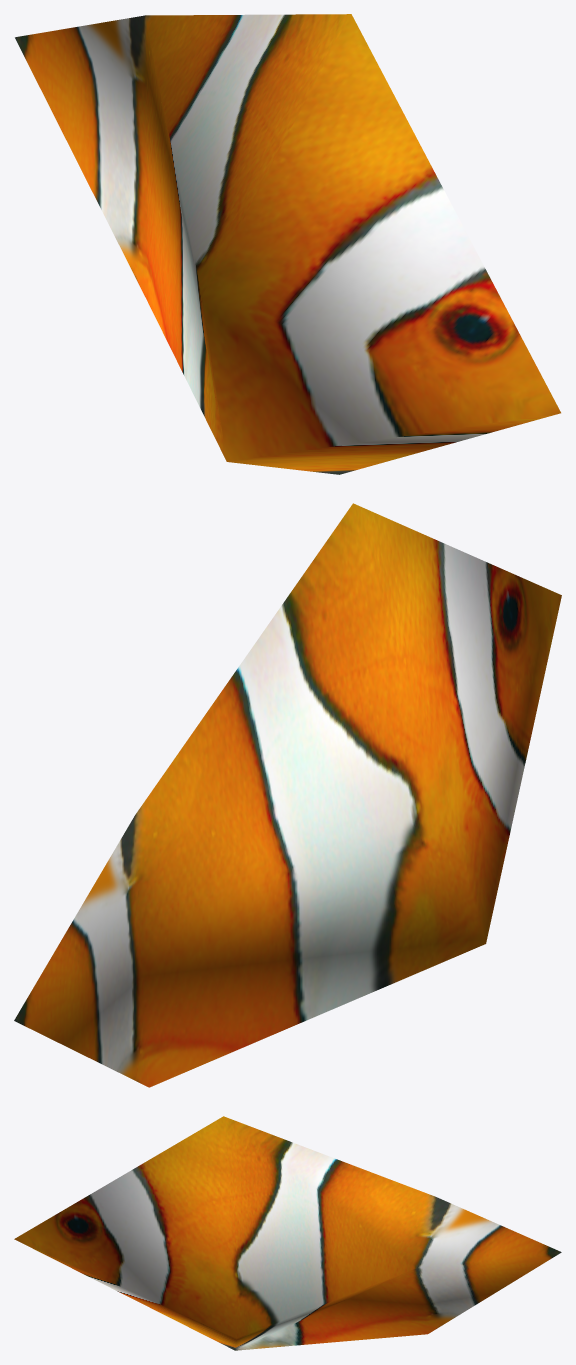
Rendered from TropicalFish12.fbx.
3 renders of one model, top to bottom at view 1: azimuth 30°, elevation 25°; view 2: azimuth 150°, elevation 25°; view 3: azimuth 270°, elevation 25°, orthographic. The views are drawn at different scales.
Parts seen in each view (by area): view 1: TropicalFish12_Export; view 2: TropicalFish12_Export; view 3: TropicalFish12_Export.
Boxes of the visible parts, x1=… form: TropicalFish12_Export: x1=15, y1=14, x2=560, y2=474; TropicalFish12_Export: x1=14, y1=503, x2=561, y2=1087; TropicalFish12_Export: x1=14, y1=1116, x2=561, y2=1350.
Size of the model in its own units: 0.0759 by 0.1266 by 0.2681.
